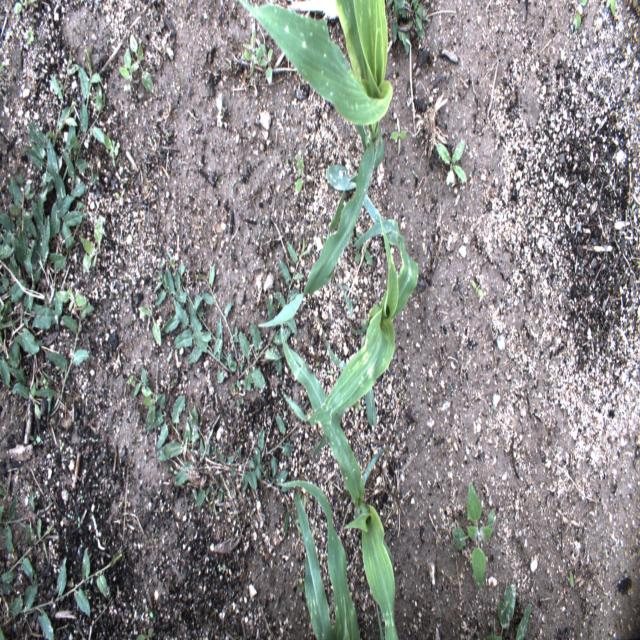crop: (238, 0, 392, 329), (281, 152, 417, 454), (280, 328, 398, 639), (280, 479, 361, 639), (376, 597, 384, 639)
weed: (0, 45, 106, 390), (127, 366, 306, 536), (153, 235, 309, 398), (0, 548, 124, 640), (12, 293, 94, 415), (451, 481, 495, 592), (0, 517, 56, 594), (0, 490, 53, 550), (486, 583, 532, 640), (386, 1, 428, 58), (436, 140, 468, 187), (129, 34, 154, 93), (80, 216, 105, 274), (137, 304, 162, 347), (243, 22, 259, 79), (56, 286, 89, 312), (256, 42, 275, 84), (389, 117, 408, 156), (569, 0, 588, 37), (119, 47, 133, 91), (141, 384, 156, 425), (356, 231, 373, 266), (103, 135, 118, 167), (295, 153, 305, 197), (12, 0, 36, 16), (30, 383, 40, 421), (353, 235, 363, 263), (471, 277, 484, 298), (296, 489, 307, 511), (602, 1, 615, 17), (116, 186, 126, 206), (296, 578, 306, 597), (136, 629, 153, 639), (25, 27, 34, 45), (566, 568, 574, 588), (144, 604, 154, 619), (29, 435, 41, 446), (352, 402, 362, 414), (169, 466, 180, 476), (394, 488, 398, 507), (0, 486, 7, 496), (59, 441, 65, 452), (0, 626, 5, 639), (221, 564, 228, 573), (0, 62, 4, 74)
